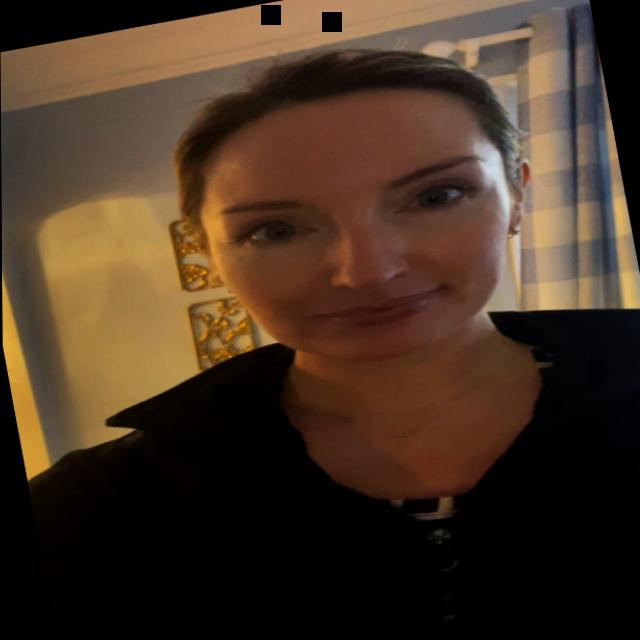NO-Mask: (158, 40, 565, 410)
